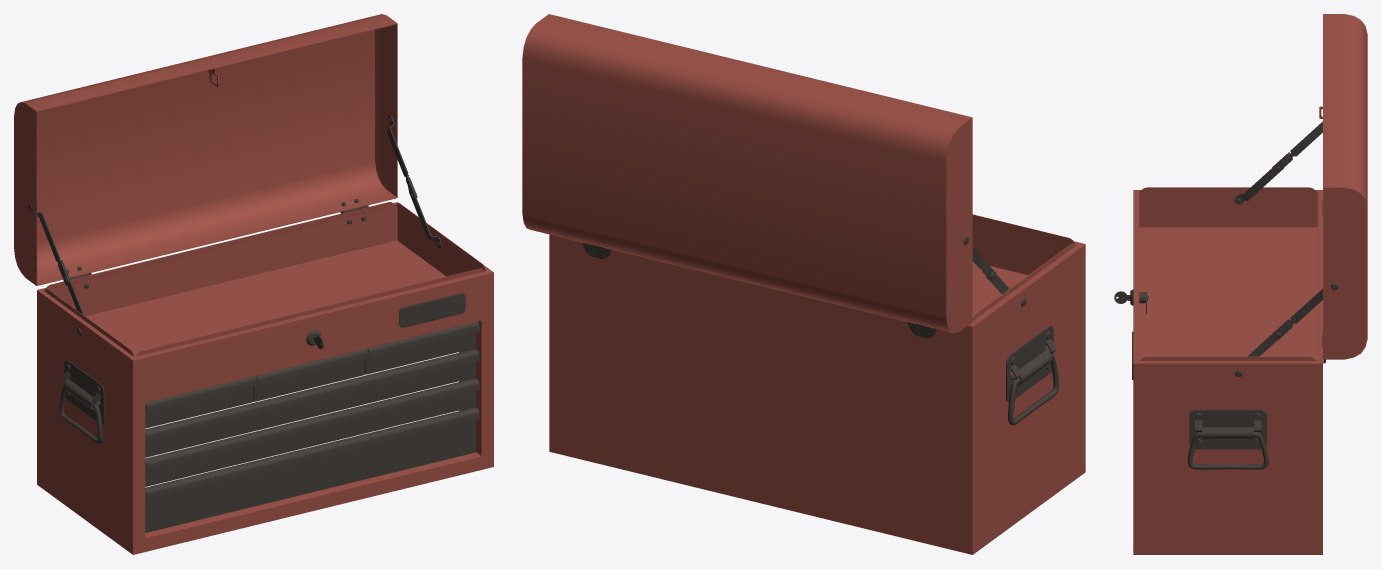
Rendered from parts.gltf.
3 renders of one model, left to right at view 1: azimuth 30°, elevation 25°; view 2: azimuth 150°, elevation 25°; view 3: azimuth 270°, elevation 25°, orthographic. The views are drawn at different scales.
Visible parts, largest first — view 1: metal_tool_chest_chest, metal_tool_chest_lid, metal_tool_chest_hinge_lid, metal_tool_chest_hinge_chest, metal_tool_chest_handle_left; view 2: metal_tool_chest_chest, metal_tool_chest_lid, metal_tool_chest_handle_left; view 3: metal_tool_chest_chest, metal_tool_chest_lid, metal_tool_chest_hinge_lid, metal_tool_chest_hinge_chest, metal_tool_chest_handle_right, metal_tool_chest_lock.
Part boxes in pixels (x1,y1,x2,y2): metal_tool_chest_chest: (37,202,493,554); metal_tool_chest_lid: (14,14,397,285); metal_tool_chest_hinge_lid: (28,116,417,285); metal_tool_chest_hinge_chest: (59,175,441,335); metal_tool_chest_handle_left: (59,383,102,444); metal_tool_chest_chest: (549,214,1085,554); metal_tool_chest_lid: (522,14,972,333); metal_tool_chest_handle_left: (1008,354,1058,425); metal_tool_chest_chest: (1132,187,1325,554); metal_tool_chest_lid: (1319,14,1367,359); metal_tool_chest_hinge_lid: (1272,121,1338,340); metal_tool_chest_hinge_chest: (1234,152,1290,376); metal_tool_chest_handle_right: (1187,432,1268,469); metal_tool_chest_lock: (1114,289,1148,313).
Size of the model in its own units: 0.6854 by 0.6518 by 0.4072.
